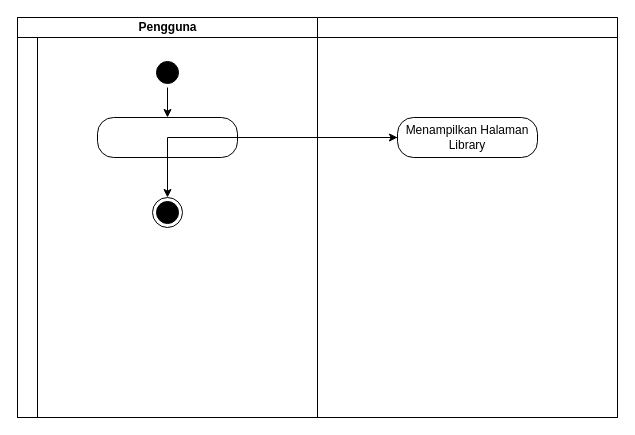
Some shapes in this 635 by 435 pixel diagram are drawn without their labels. Here are the shapes that lost their labels. From the top down, the box of each, then its label:
(96, 116, 238, 158): Pilih menu Library
(316, 16, 618, 418): Sistem
